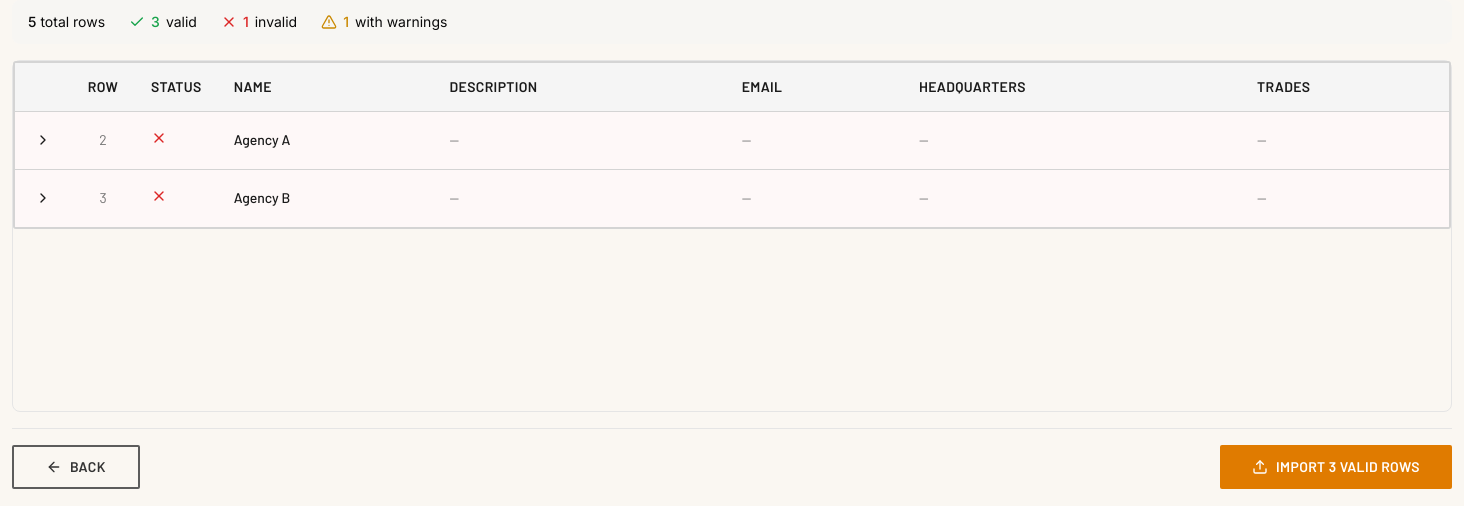
it: ImportPreviewTable › Multiple Rows › can expand multiple rows independently
// Expand first row
Click the button with test id "expand-button-2": click(43, 140) x1=31 y1=128 x2=55 y2=152
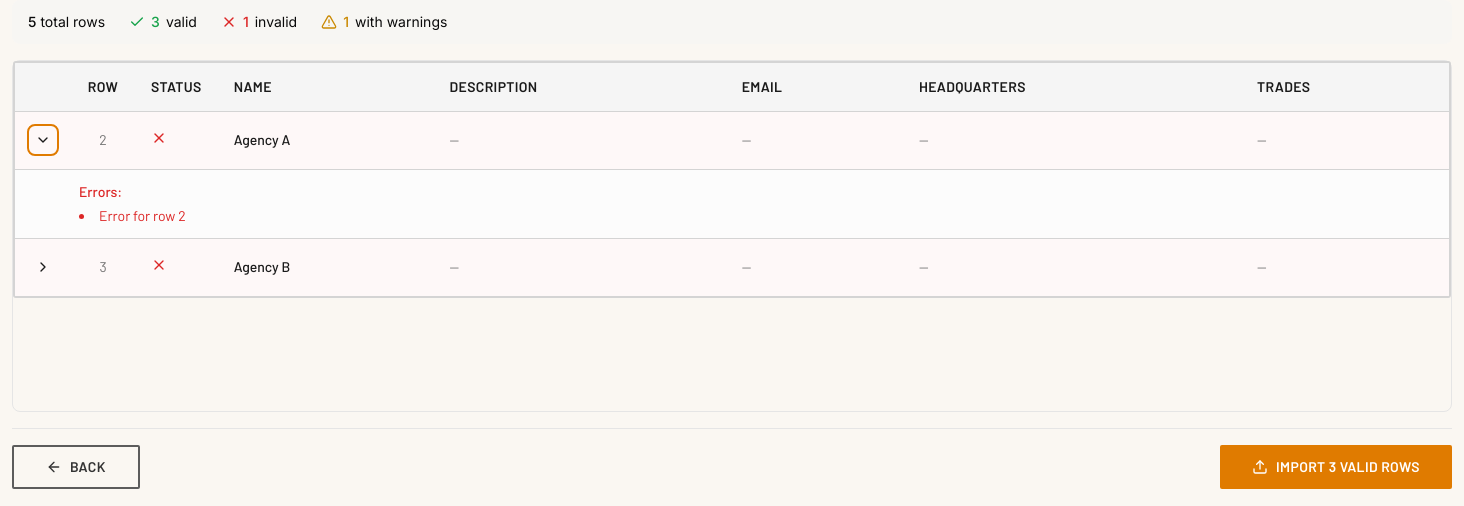
Check: the row with test id "details-row-2" is shown, box x1=15 y1=169 x2=1449 y2=238
// Expand second row
Click the button with test id "expand-button-3": click(43, 266) x1=31 y1=254 x2=55 y2=278
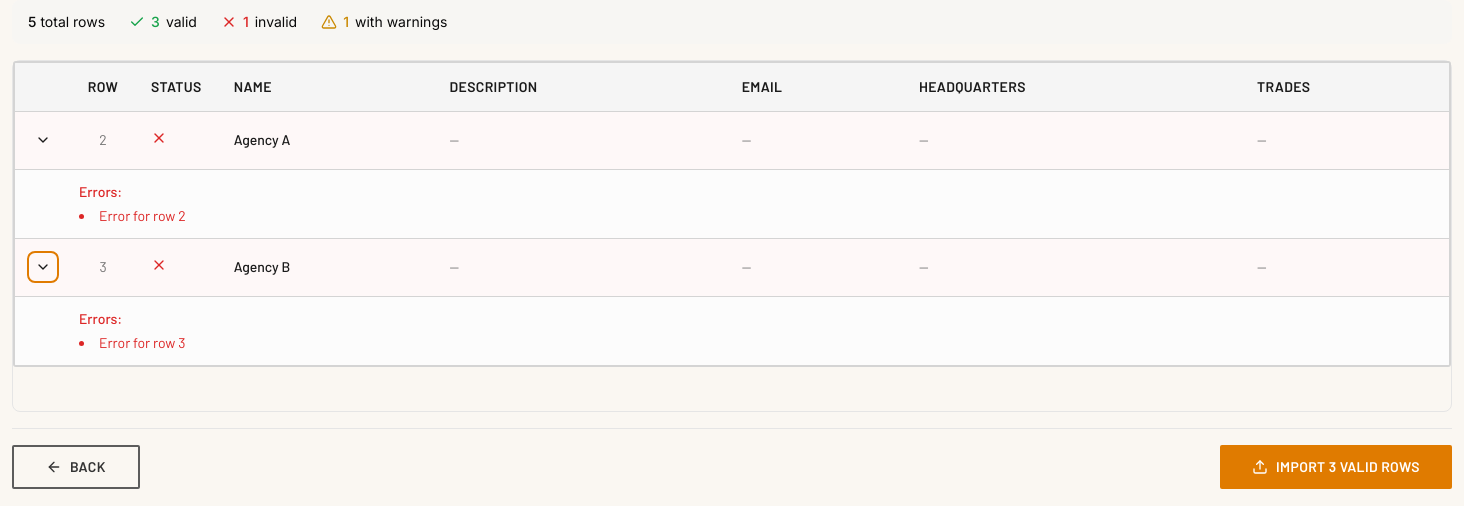
Check: the row with test id "details-row-2" is shown, box x1=15 y1=169 x2=1449 y2=238
Check: the row with test id "details-row-3" is shown, box x1=15 y1=296 x2=1449 y2=364
